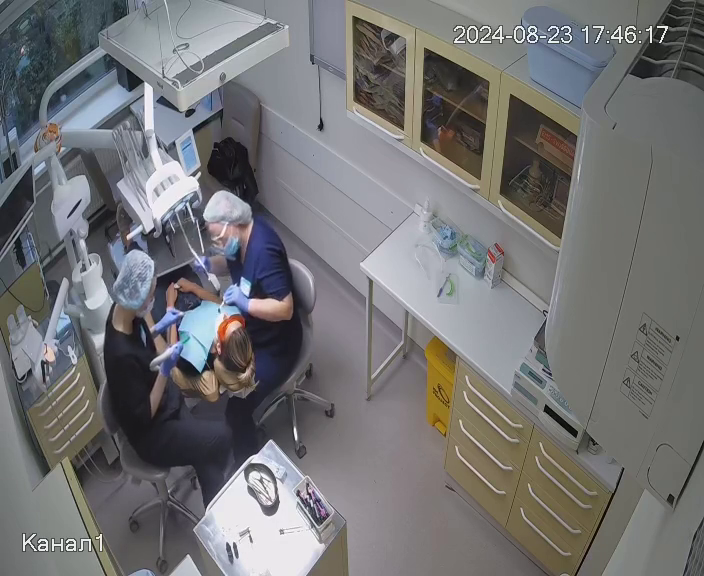Patient: (92, 199, 260, 404)
